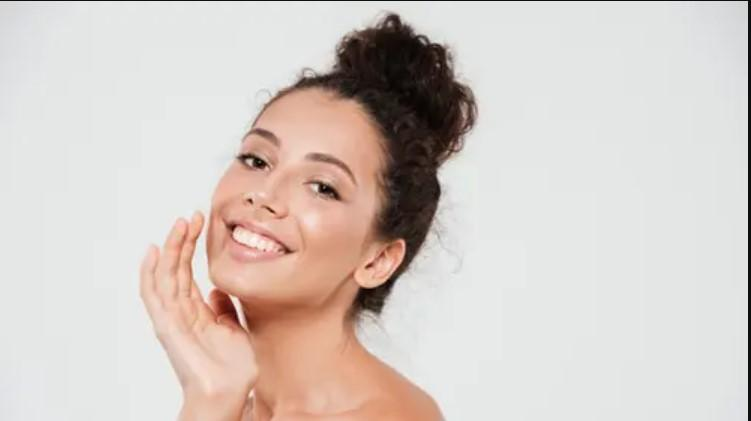Oily-Skin: (300, 203, 349, 276), (209, 263, 261, 298), (247, 170, 289, 213), (288, 104, 334, 143)
